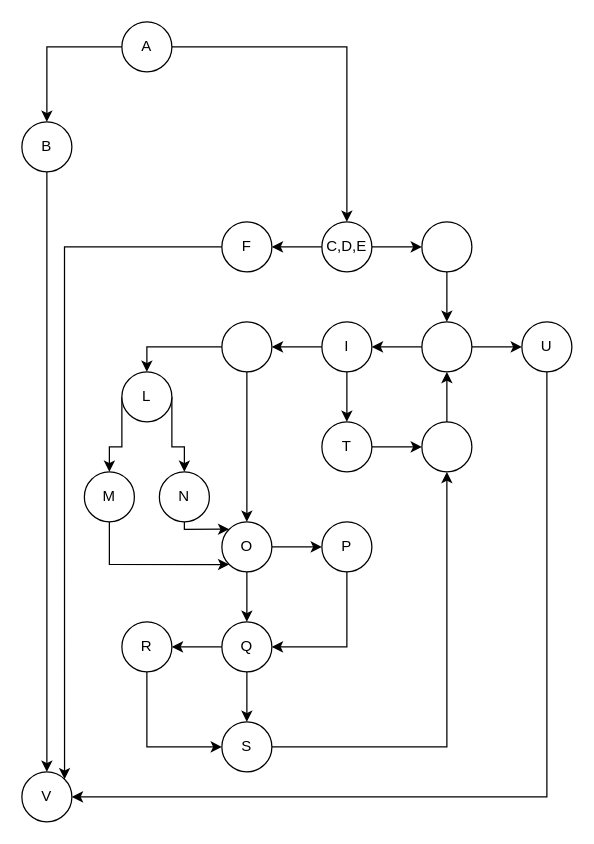
Image size: 594x844. Some labels were removed from this diagram. The shapes that lost their labels are listed below. From the top down, each one's box as (x1, y1, x2, y2) in pixels, then its label:
(421, 221, 472, 272): G, H.1
(221, 321, 272, 372): J, K
(421, 321, 472, 372): H.2
(421, 421, 472, 472): H.3
